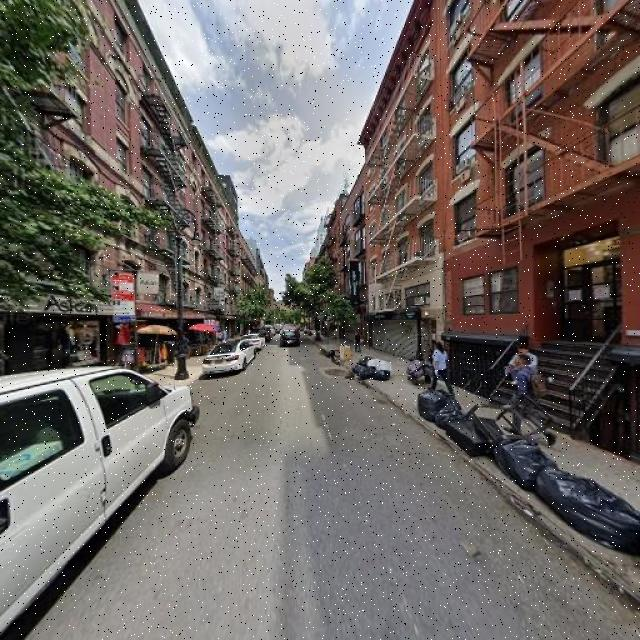Building: (449, 1, 640, 427), (9, 1, 165, 403), (368, 1, 445, 367)
